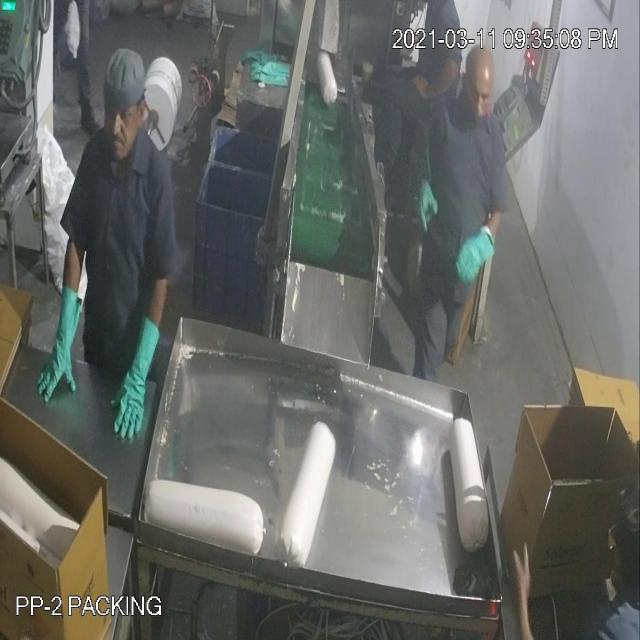No_Gloves: (28, 56, 474, 378)
